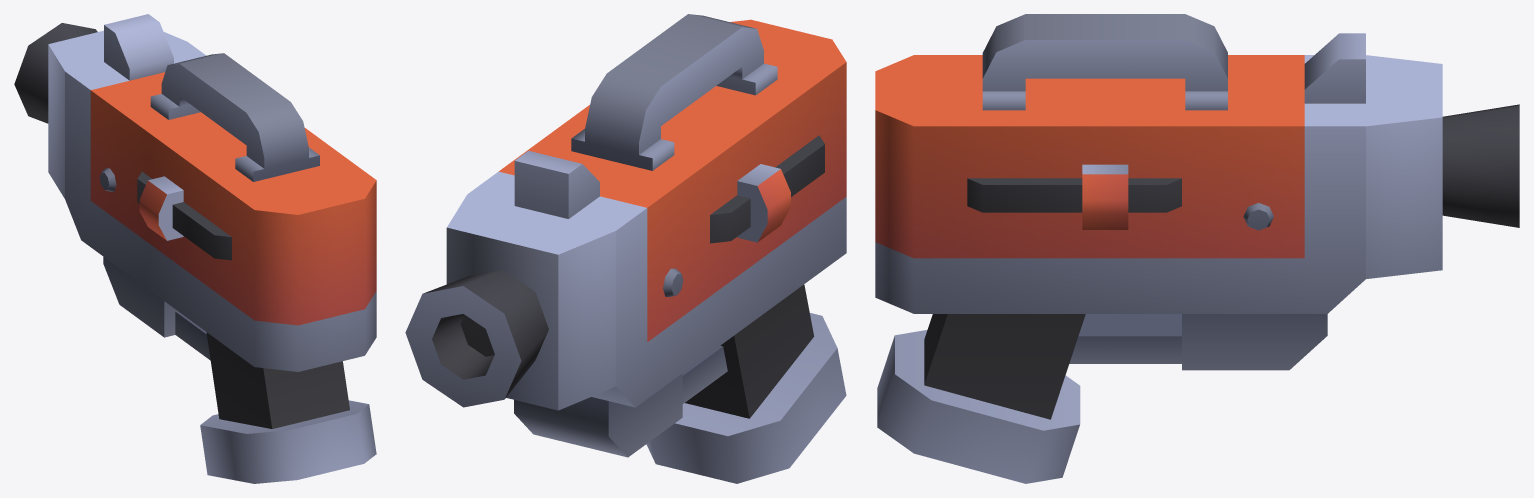
File: pistol.glb
The picture shows the model from 3 angles, left to right: view 1: azimuth 30°, elevation 25°; view 2: azimuth 150°, elevation 25°; view 3: azimuth 270°, elevation 25°; orthographic projection. The views are drawn at different scales.
Parts seen in each view (by area): view 1: blaster-b; view 2: blaster-b; view 3: blaster-b.
Part boxes in pixels (box(x1,y1,x2,y2)): blaster-b: box(14, 14, 376, 483); blaster-b: box(405, 14, 846, 483); blaster-b: box(875, 14, 1519, 483).
Bounding box in the file's own units: 0.155 × 0.3105 × 0.4201.
1 material, 1 textured.
